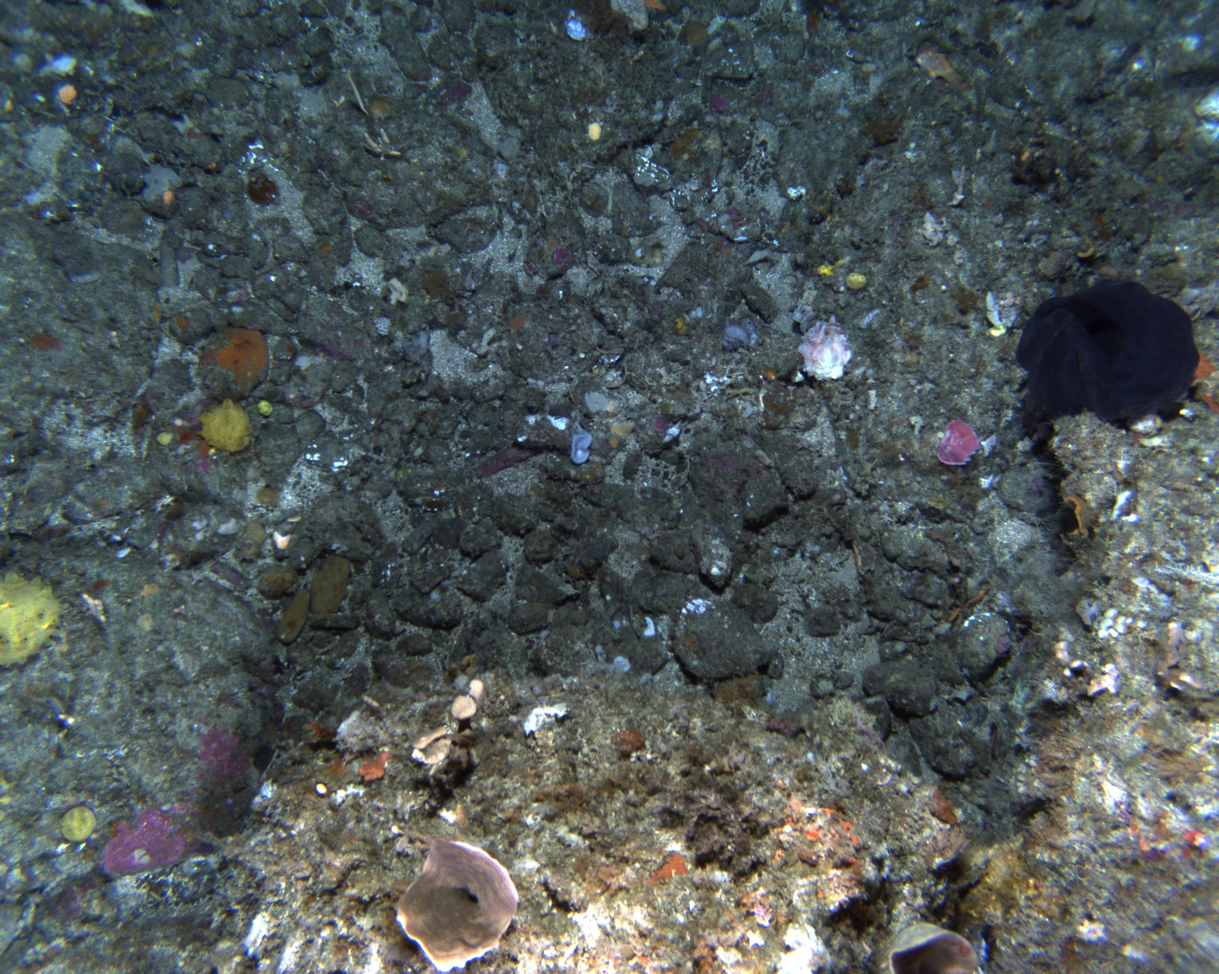Brachionichthyidae: (914, 45, 975, 95)
